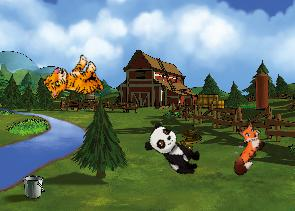fox: (215, 116, 273, 178)
panda: (140, 120, 207, 180)
tiger: (39, 48, 109, 115)
